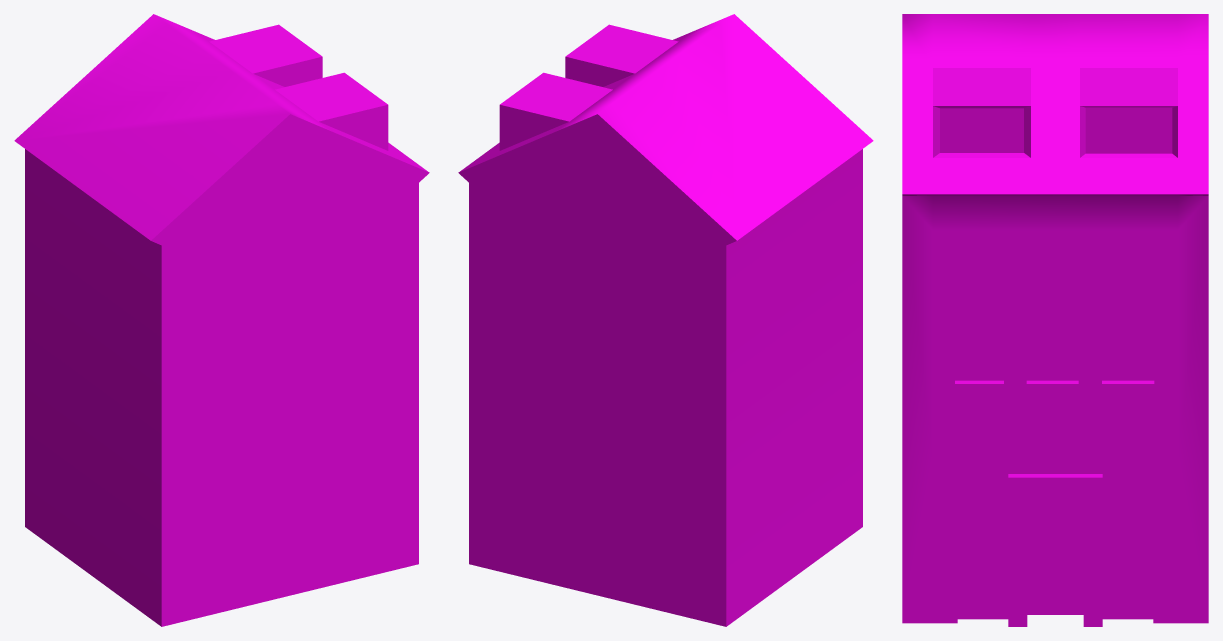
The model's file is building 3 var 3.fbx.
3 views of the same model, side by side, from view 1: azimuth 30°, elevation 25°; view 2: azimuth 150°, elevation 25°; view 3: azimuth 270°, elevation 25° (orthographic). The views are drawn at different scales.
Visible parts, largest first — view 1: buliding_3_var_3; view 2: buliding_3_var_3; view 3: buliding_3_var_3.
Part boxes in pixels (bbox=[...]): buliding_3_var_3: bbox=[14, 14, 429, 626]; buliding_3_var_3: bbox=[458, 14, 873, 626]; buliding_3_var_3: bbox=[902, 14, 1208, 626].
Size of the model in its own units: 4.11 by 6.78 by 3.49.
